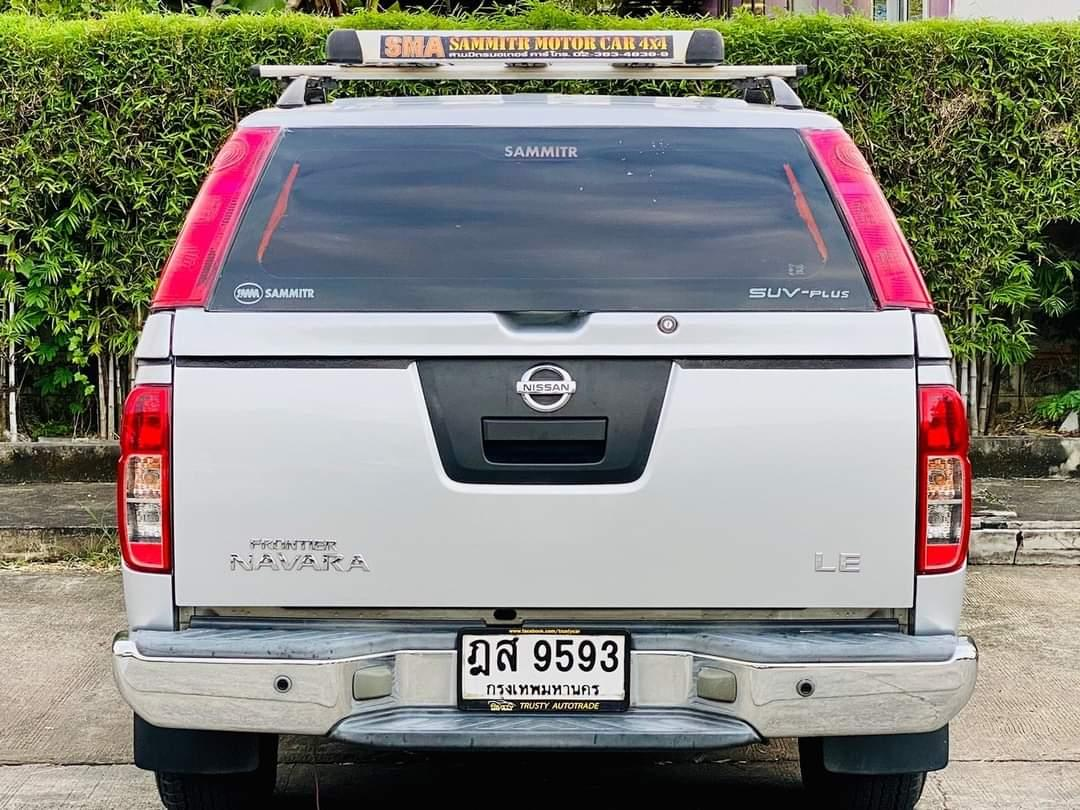license-plate: (454, 620, 636, 717)
